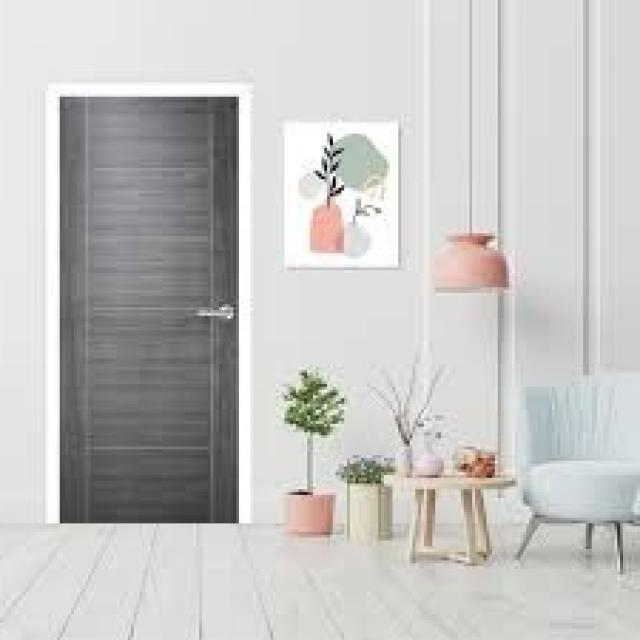door: (58, 94, 240, 523)
